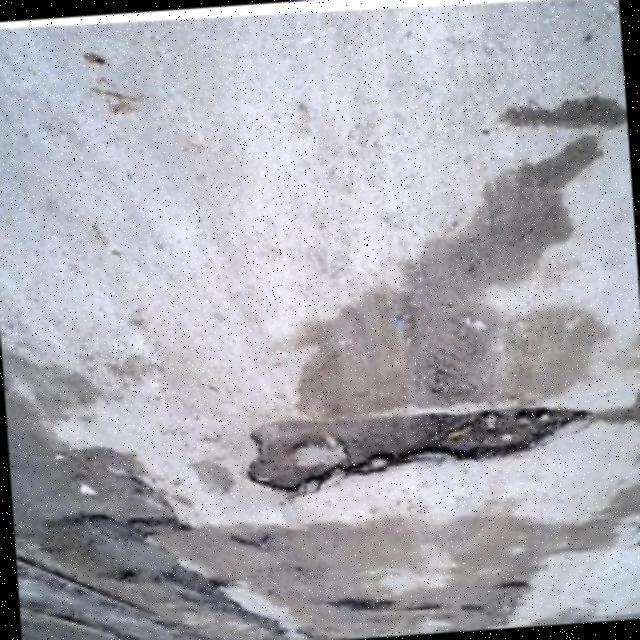Pothole: (245, 403, 603, 493)
